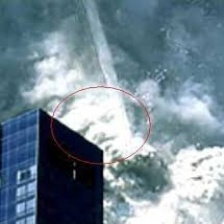smoke: (172, 152, 221, 217), (24, 49, 77, 97)
